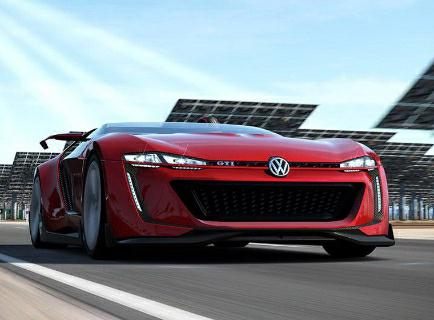大众-夏朗: (22, 121, 400, 263)
